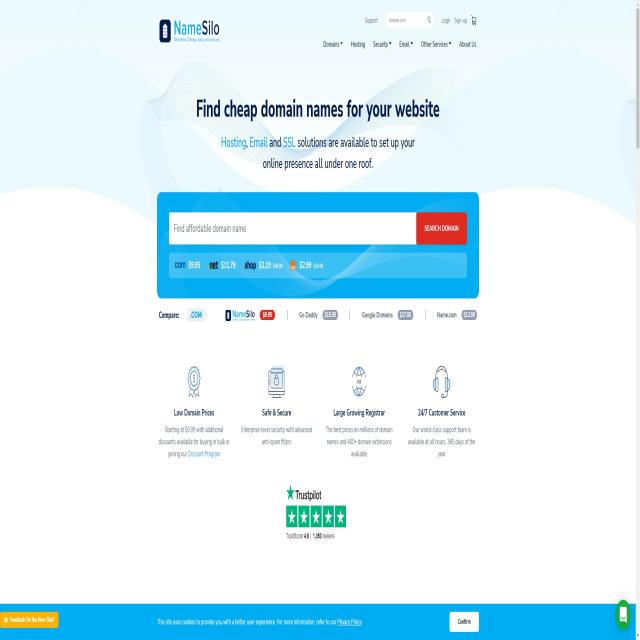menu-bar: (362, 6, 484, 33)
search: (172, 208, 468, 248), (384, 8, 435, 33)
tab-bar: (318, 32, 484, 56)
